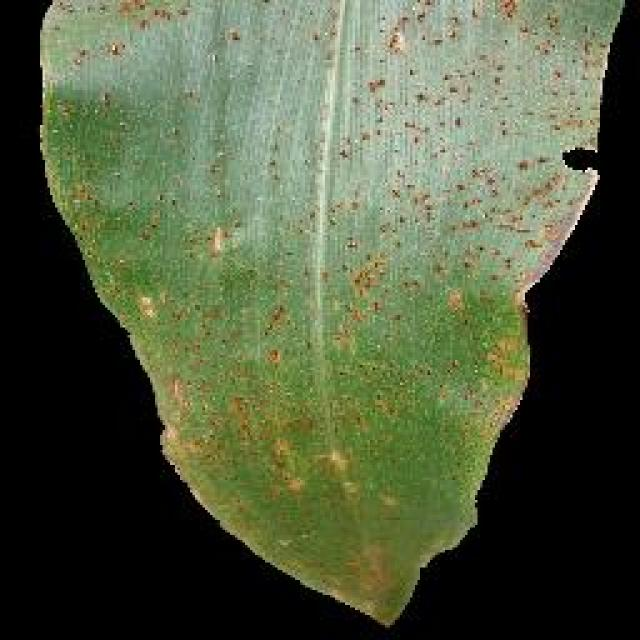Corn Common Rust: (95, 170, 587, 485)
